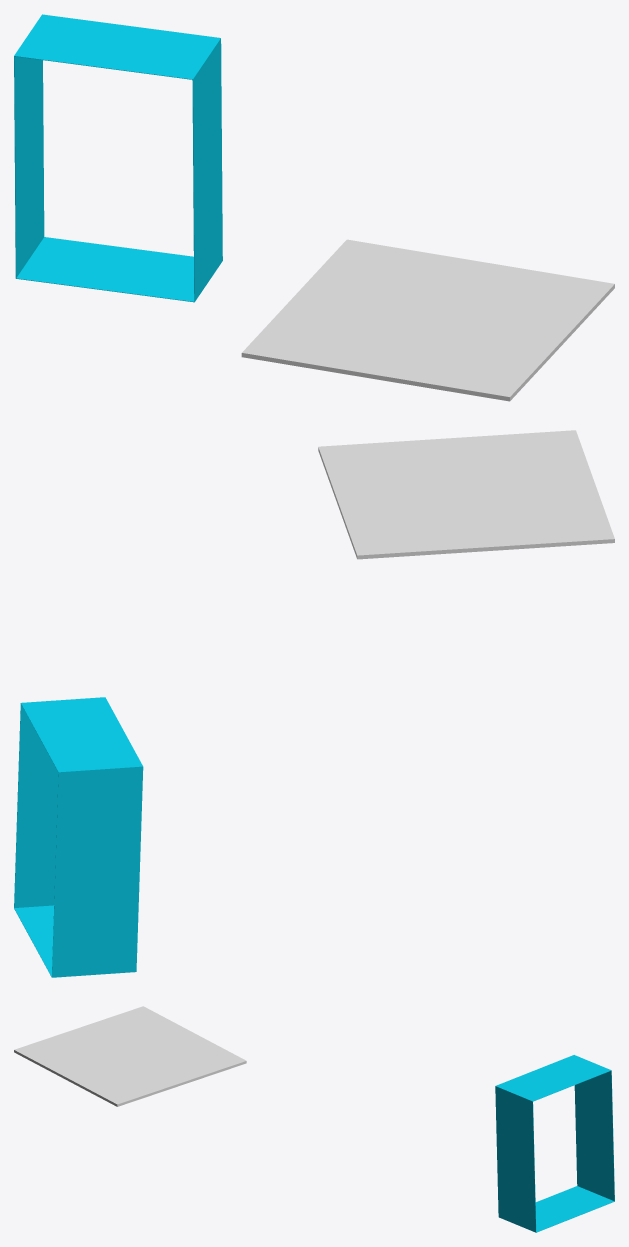
The model's file is tile_398.glb.
3 views of the same model, one above another, from view 1: azimuth 30°, elevation 25°; view 2: azimuth 150°, elevation 25°; view 3: azimuth 270°, elevation 25° (orthographic). The views are drawn at different scales.
Bounding box in the file's own units: 0.8433 × 0.5506 × 2.18.
